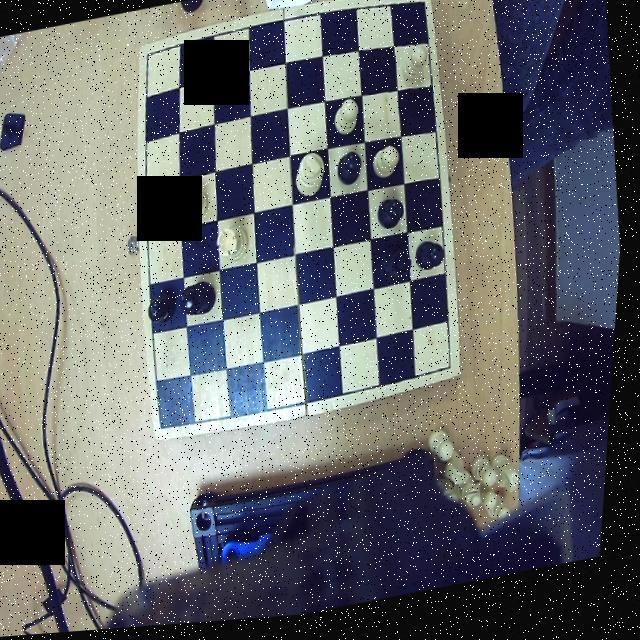chess-table-corners: (158, 412, 184, 440), (440, 363, 465, 388), (414, 0, 434, 27), (142, 44, 164, 68)
